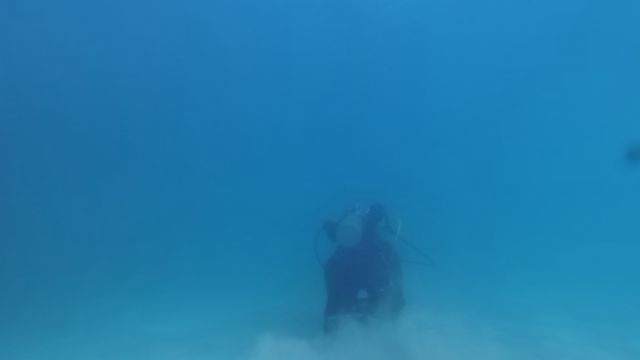Diver: (319, 210, 405, 328)
